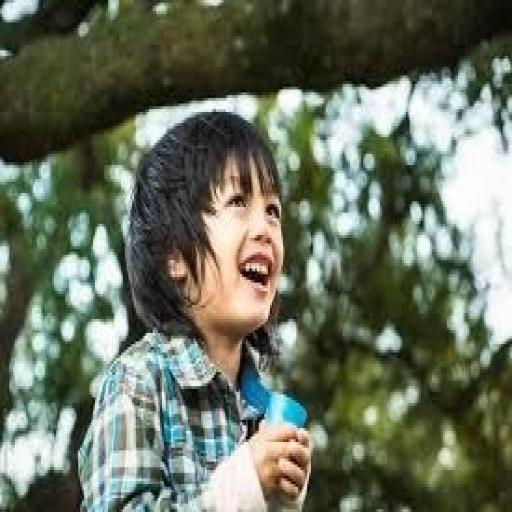laughing: (74, 98, 324, 506)
